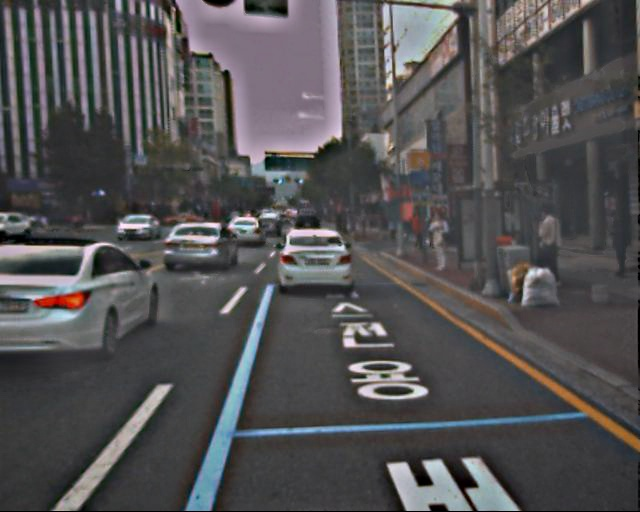person: (529, 206, 564, 291), (603, 207, 633, 281), (425, 207, 453, 275), (409, 207, 427, 252)
